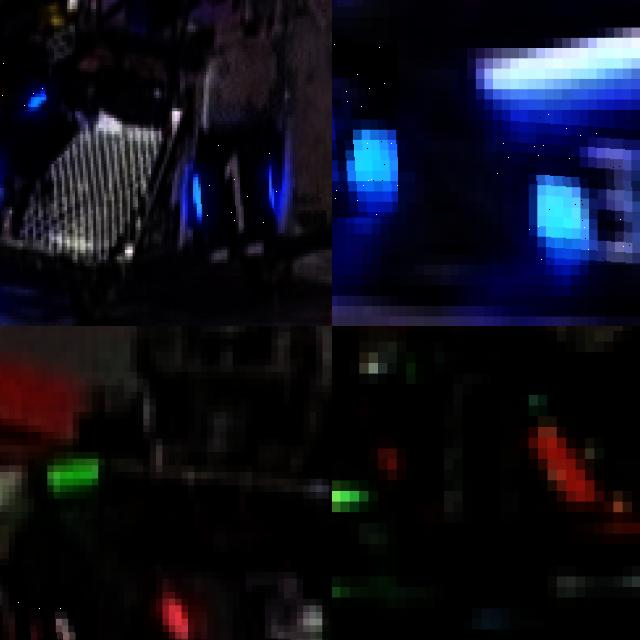B1: (193, 135, 282, 233), (0, 61, 49, 111)
B3: (497, 110, 640, 265), (332, 42, 397, 218)
R3: (15, 598, 98, 640)
